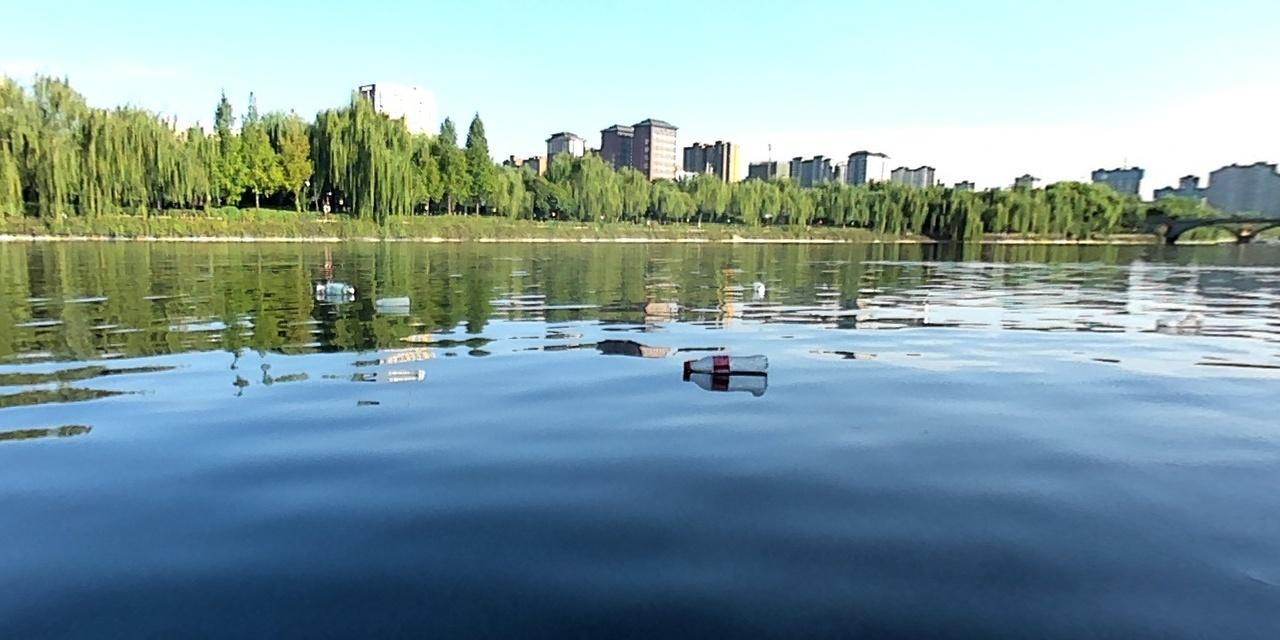bottle: (676, 349, 772, 378), (1152, 309, 1205, 327), (312, 280, 357, 298), (371, 293, 411, 309)
